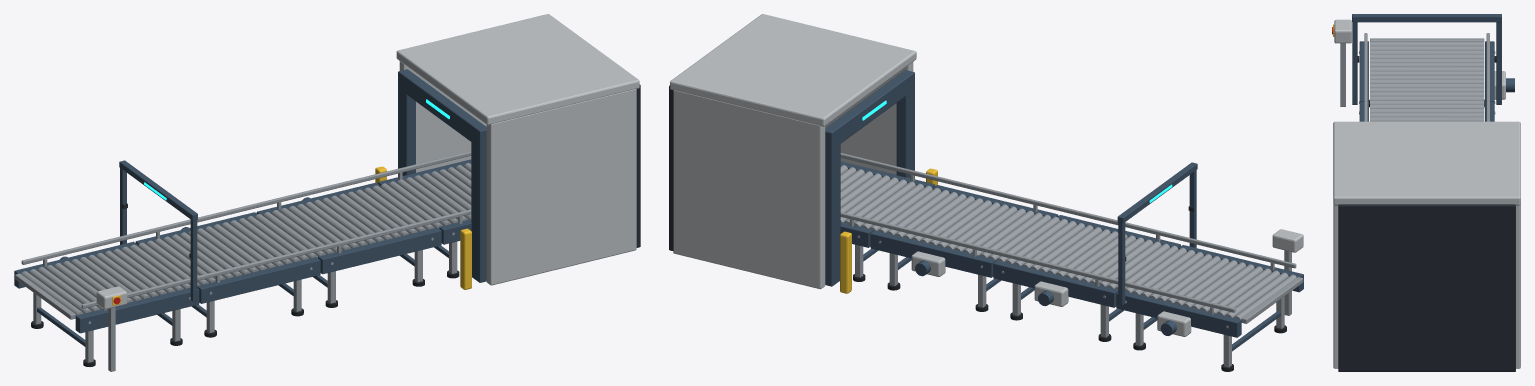
The model's file is conveyor.glb.
3 renders of one model, left to right at view 1: azimuth 30°, elevation 25°; view 2: azimuth 150°, elevation 25°; view 3: azimuth 270°, elevation 25°, orthographic. The views are drawn at different scales.
Visible parts, largest first — view 1: Dispatch side wall, Dispatch roof, Dispatch side wall.001, Low guide rail.001, Module side channel.004, Module side channel.002, Portal lintel, Module side channel, Portal jamb, Low guide rail, Portal jamb.001, Scanner crossbar (+9 smaller); view 2: Dispatch side wall.001, Dispatch roof, Dispatch side wall, Low guide rail, Portal lintel, Low guide rail.001, Module side channel.003, Module side channel.005, Portal jamb.001, Module side channel.001, Portal jamb, Scanner crossbar (+12 smaller); view 3: Dispatch rear wall, Dispatch roof, Scanner crossbar, Dispatch side wall, Dispatch side wall.001, Roller • 05, Roller • 11, Roller • 17, Roller • 03, Roller • 04, Roller • 06, Roller • 07 (+22 smaller).
Part boxes in pixels (x1=…): Dispatch side wall: x1=486, y1=89, x2=636, y2=285; Dispatch roof: x1=396, y1=14, x2=639, y2=125; Dispatch side wall.001: x1=399, y1=61, x2=486, y2=172; Low guide rail.001: x1=21, y1=151, x2=471, y2=264; Module side channel.004: x1=318, y1=227, x2=441, y2=274; Module side channel.002: x1=197, y1=257, x2=320, y2=303; Portal lintel: x1=398, y1=69, x2=486, y2=147; Module side channel: x1=75, y1=287, x2=199, y2=333; Portal jamb: x1=471, y1=142, x2=486, y2=282; Low guide rail: x1=81, y1=209, x2=471, y2=308; Portal jamb.001: x1=398, y1=88, x2=415, y2=176; Scanner crossbar: x1=119, y1=160, x2=197, y2=220; Dispatch side wall.001: x1=673, y1=90, x2=825, y2=289; Dispatch roof: x1=670, y1=14, x2=916, y2=126; Dispatch side wall: x1=825, y1=62, x2=913, y2=174; Low guide rail: x1=840, y1=153, x2=1296, y2=268; Portal lintel: x1=825, y1=70, x2=914, y2=149; Low guide rail.001: x1=840, y1=212, x2=1235, y2=312; Module side channel.003: x1=993, y1=260, x2=1118, y2=307; Module side channel.005: x1=870, y1=230, x2=995, y2=277; Portal jamb.001: x1=825, y1=143, x2=840, y2=286; Module side channel.001: x1=1116, y1=291, x2=1241, y2=337; Portal jamb: x1=896, y1=89, x2=914, y2=178; Scanner crossbar: x1=1117, y1=162, x2=1197, y2=223; Dispatch rear wall: x1=1338, y1=204, x2=1515, y2=371; Dispatch roof: x1=1333, y1=121, x2=1520, y2=205; Scanner crossbar: x1=1352, y1=14, x2=1501, y2=22; Dispatch side wall: x1=1333, y1=204, x2=1338, y2=368; Dispatch side wall.001: x1=1516, y1=204, x2=1520, y2=368; Roller • 05: x1=1370, y1=58, x2=1484, y2=62; Roller • 11: x1=1370, y1=83, x2=1484, y2=87; Roller • 17: x1=1370, y1=108, x2=1484, y2=112; Roller • 03: x1=1370, y1=50, x2=1484, y2=54; Roller • 04: x1=1370, y1=54, x2=1484, y2=58; Roller • 06: x1=1370, y1=62, x2=1484, y2=66; Roller • 07: x1=1370, y1=66, x2=1484, y2=70.
Size of the model in its own units: 6.64 by 1.94 by 1.91.
